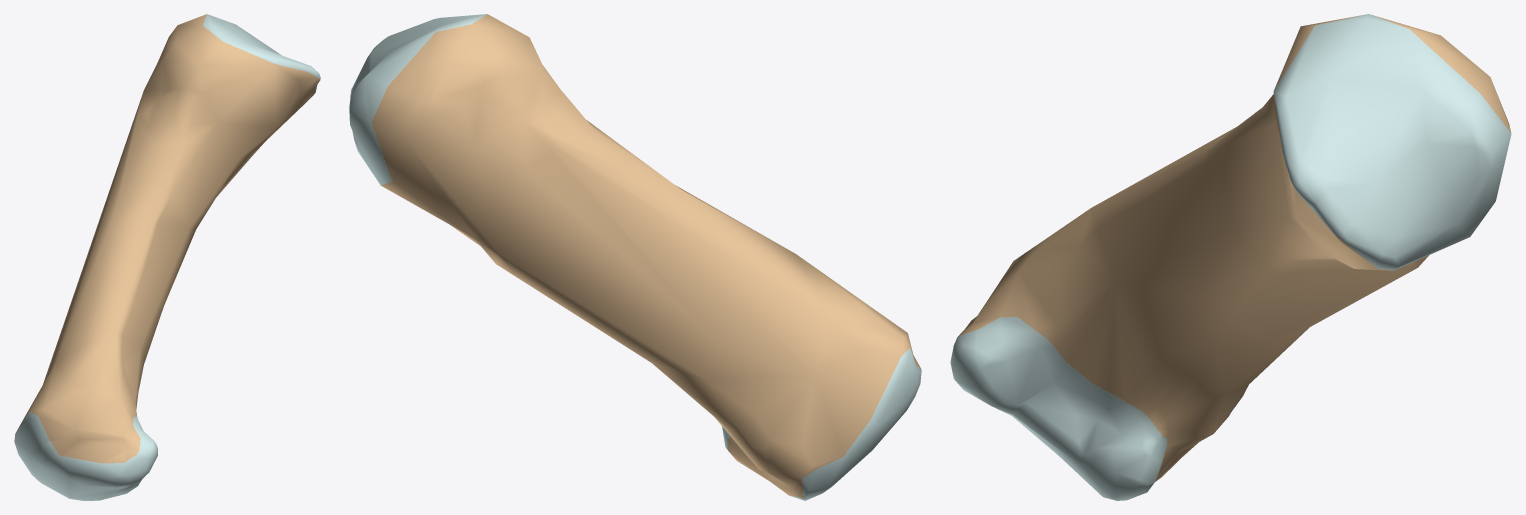
File: 1st_metacarpal_bone.r_Generated_Mesh_From_X3D.742.glb
3 views of the same model, side by side, from view 1: azimuth 30°, elevation 25°; view 2: azimuth 150°, elevation 25°; view 3: azimuth 270°, elevation 25° (orthographic). The views are drawn at different scales.
Visible parts, largest first — view 1: 1st_metacarpal_bone.r_Generated_Mesh_From_X3D.742; view 2: 1st_metacarpal_bone.r_Generated_Mesh_From_X3D.742; view 3: 1st_metacarpal_bone.r_Generated_Mesh_From_X3D.742.
Boxes of the visible parts, x1,y1,x2,y2 form: 1st_metacarpal_bone.r_Generated_Mesh_From_X3D.742: [14, 14, 320, 500]; 1st_metacarpal_bone.r_Generated_Mesh_From_X3D.742: [349, 14, 921, 500]; 1st_metacarpal_bone.r_Generated_Mesh_From_X3D.742: [950, 14, 1511, 500].
Bounding box in the file's own units: 0.0387 × 0.0384 × 0.0315.
